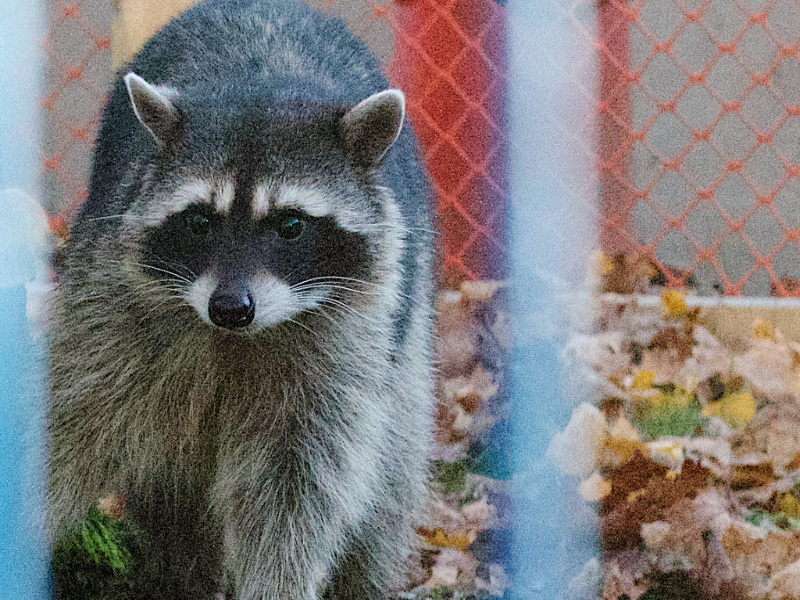raccoon: (45, 5, 446, 592)
